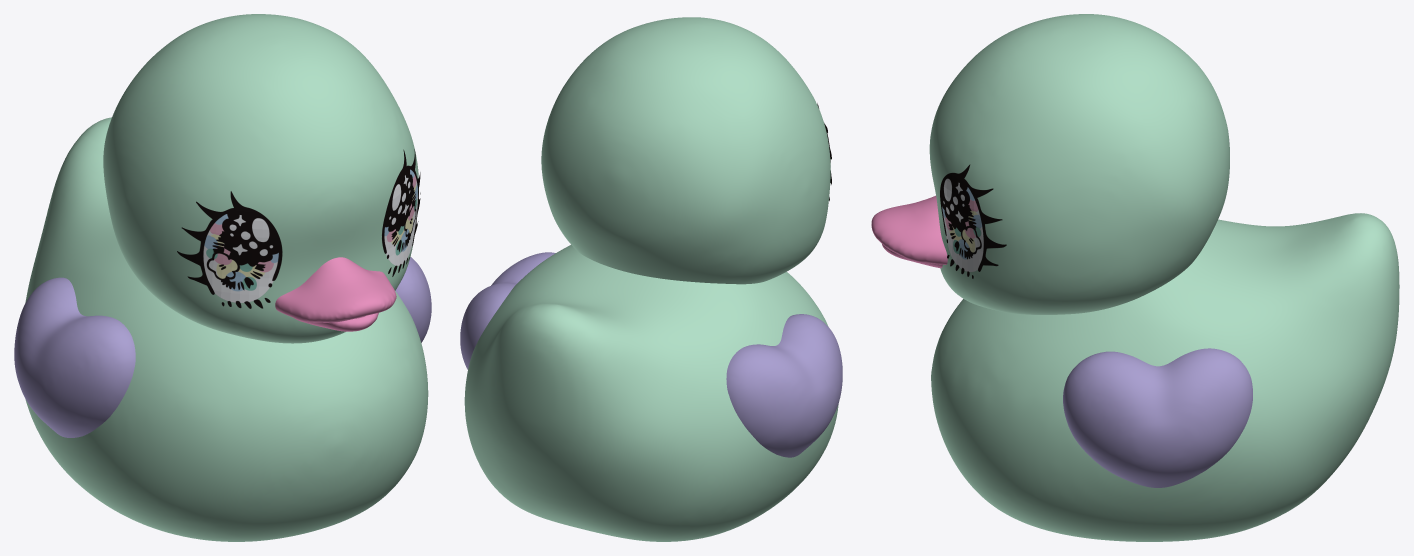
3 views of the same model, side by side, from view 1: azimuth 30°, elevation 25°; view 2: azimuth 150°, elevation 25°; view 3: azimuth 270°, elevation 25° (orthographic). The views are drawn at different scales.
Parts seen in each view (by area): view 1: Torebi 5, Fix, Torebi 7, 平面.002, Torebi 3, Torebi 4; view 2: Torebi 5, Fix, Torebi 7, Torebi 4; view 3: Torebi 5, Fix, Torebi 4, 平面.002, Torebi 3.
Part boxes in pixels (x1,y1,x2,y2): Torebi 5: (25,117,428,541); Fix: (103,14,418,343); Torebi 7: (14,277,135,437); 平面.002: (177,149,420,308); Torebi 3: (275,257,396,331); Torebi 4: (395,257,431,342); Torebi 5: (464,245,838,541); Fix: (541,17,830,284); Torebi 7: (726,314,842,457); Torebi 4: (460,252,555,369); Torebi 5: (931,213,1399,541); Fix: (929,14,1229,314); Torebi 4: (1063,348,1252,487); 平面.002: (940,164,1006,278); Torebi 3: (871,195,947,268).
Bounding box in the file's own units: 50.64 × 60.08 × 62.26.
5 materials, 1 textured.
